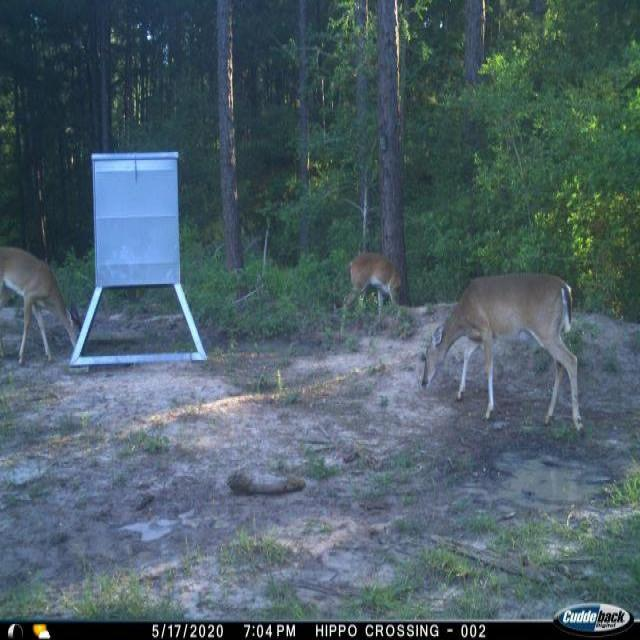deer: (418, 270, 588, 439), (0, 244, 86, 369), (341, 250, 404, 321)
